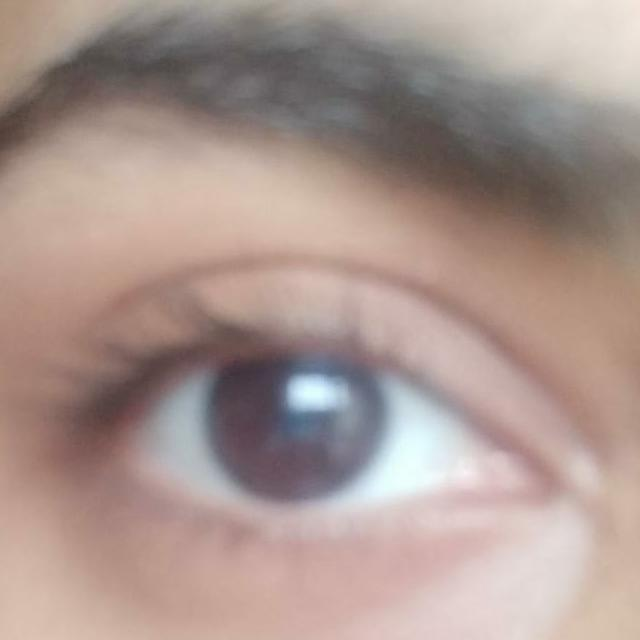eye: (116, 352, 497, 514)
iris: (204, 360, 386, 504)
